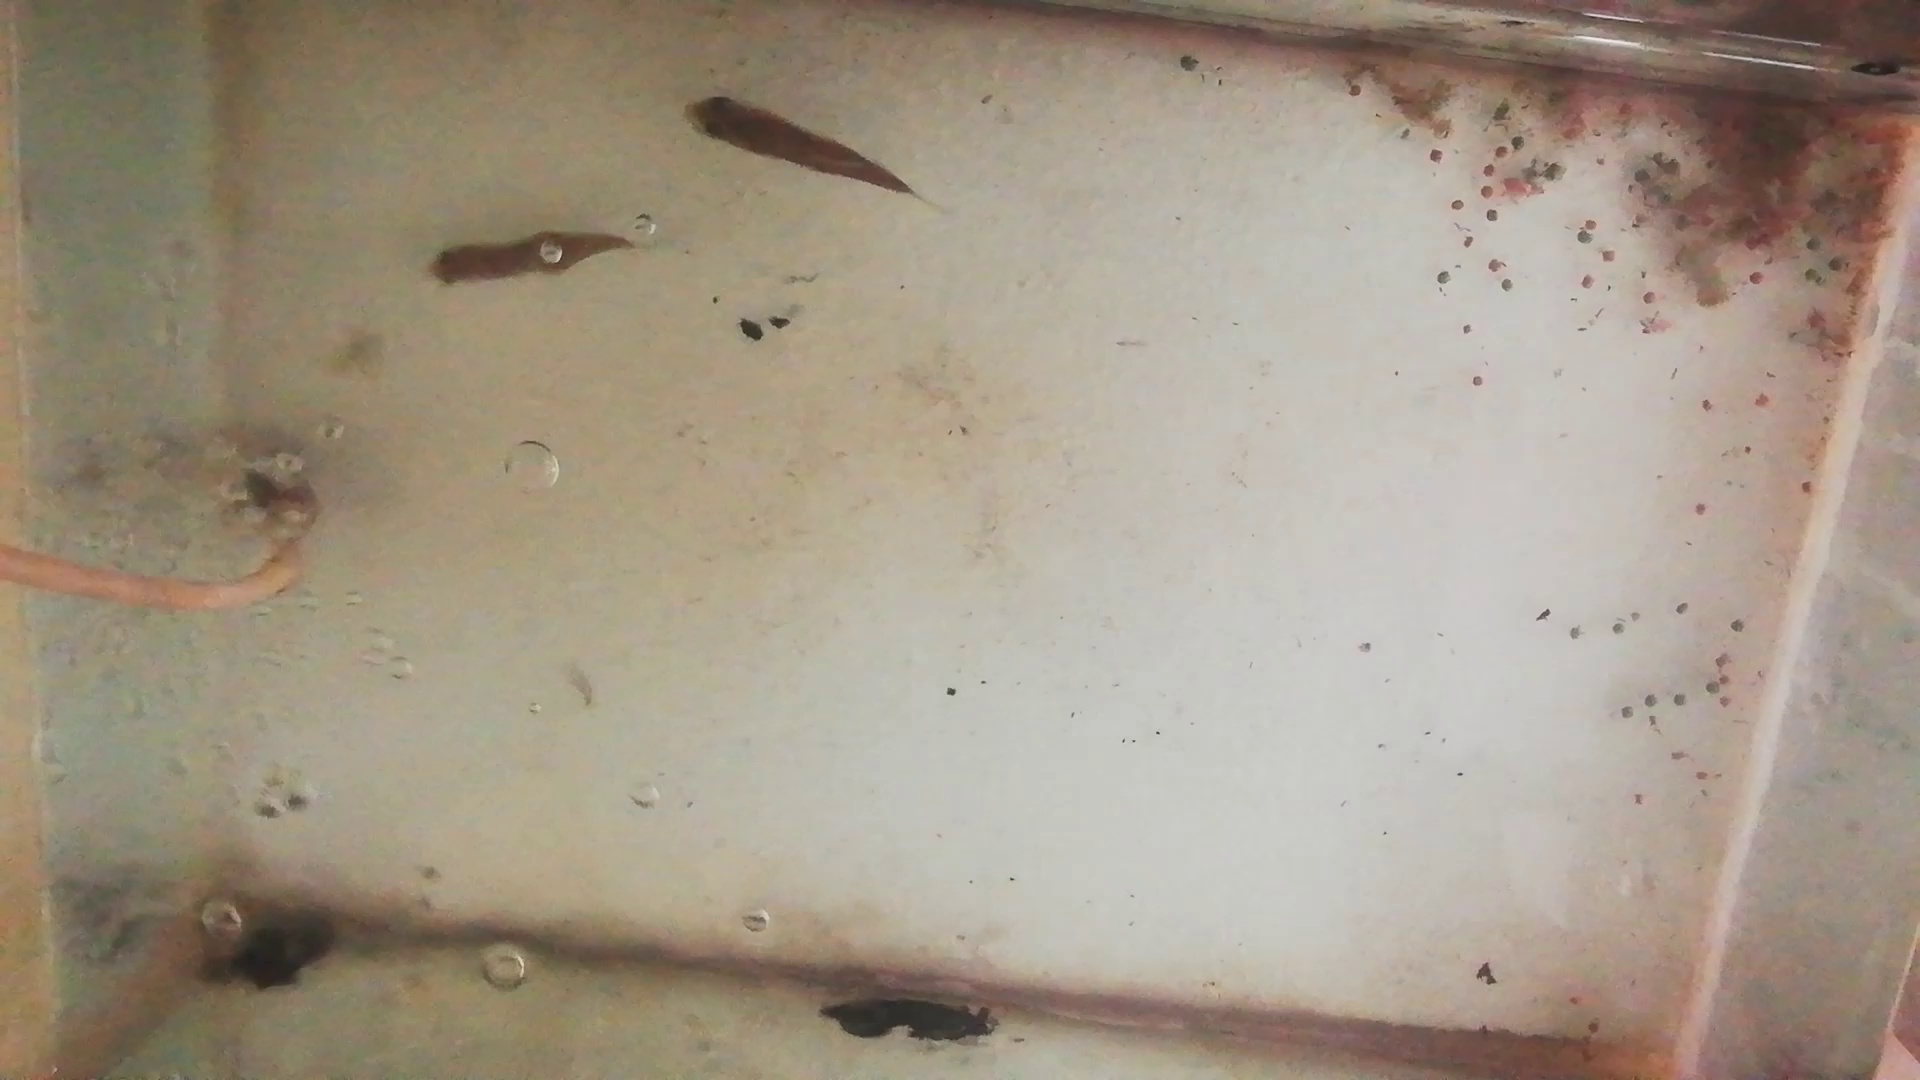fish: (680, 94, 914, 203), (429, 229, 636, 290)
